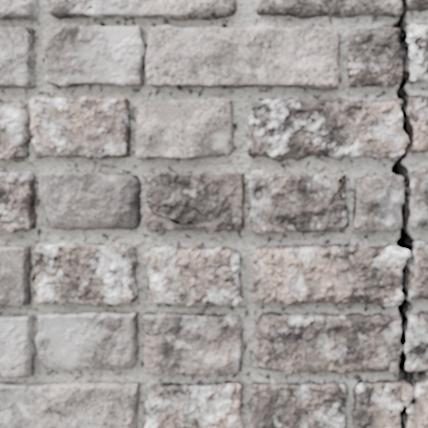brick: (43, 24, 339, 88), (0, 96, 130, 158), (34, 243, 137, 305), (143, 312, 243, 375), (0, 382, 139, 427), (248, 172, 348, 233), (146, 171, 244, 231), (40, 172, 140, 229), (146, 246, 241, 306), (136, 99, 232, 158), (36, 312, 137, 368), (144, 381, 242, 427), (251, 381, 347, 427), (47, 0, 236, 19), (0, 27, 36, 88), (0, 171, 36, 231), (0, 314, 34, 376), (0, 246, 30, 305), (0, 0, 38, 19), (342, 186, 344, 198)
broken_brick: (246, 97, 406, 162), (251, 243, 408, 306), (253, 310, 401, 375), (347, 26, 401, 88), (352, 172, 402, 233), (351, 379, 411, 427), (254, 0, 400, 19), (405, 310, 427, 370), (408, 94, 427, 153), (409, 21, 427, 83), (409, 166, 427, 227), (411, 239, 427, 299), (409, 374, 427, 427), (409, 0, 427, 12)
crack: (390, 0, 427, 427), (146, 200, 204, 228), (323, 174, 346, 211), (4, 28, 15, 62), (144, 329, 172, 336), (79, 4, 93, 15), (23, 25, 31, 33)
